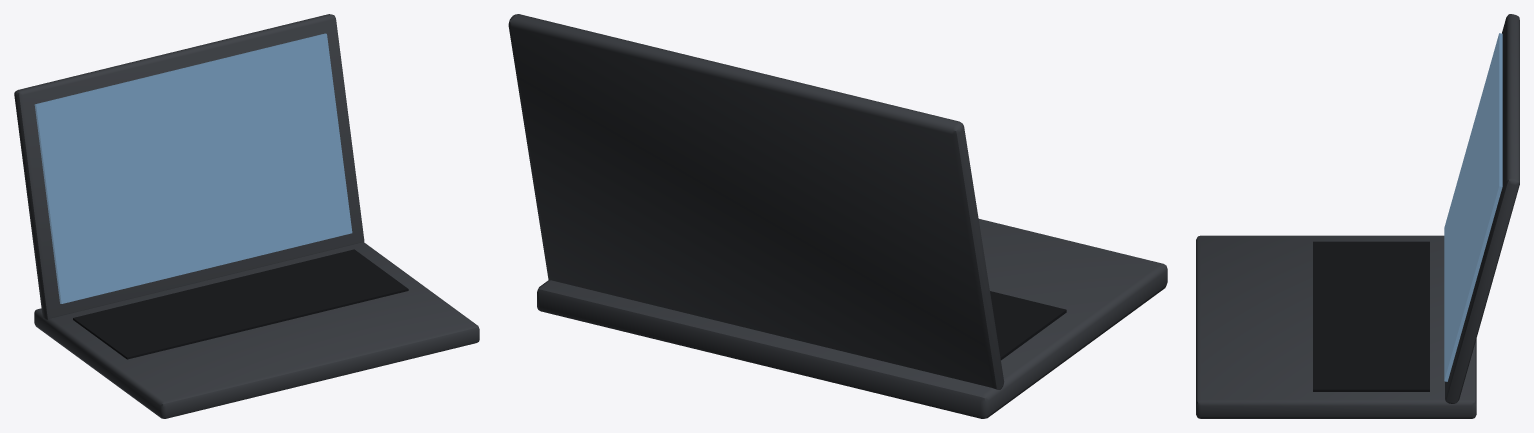
File: laptop.glb
3 renders of one model, left to right at view 1: azimuth 30°, elevation 25°; view 2: azimuth 150°, elevation 25°; view 3: azimuth 270°, elevation 25°, orthographic. The views are drawn at different scales.
Parts seen in each view (by area): view 1: screen, base, lid; view 2: lid, base; view 3: base, screen, lid.
Boxes of the visible parts, x1,y1,x2,y2 form: screen: (34, 33, 352, 303); base: (34, 242, 479, 418); lid: (14, 14, 364, 319); lid: (508, 14, 1004, 389); base: (537, 219, 1167, 418); base: (1196, 235, 1476, 418); screen: (1444, 33, 1502, 381); lid: (1445, 14, 1519, 403).
Size of the model in its own units: 0.34 by 0.2271 by 0.277.
